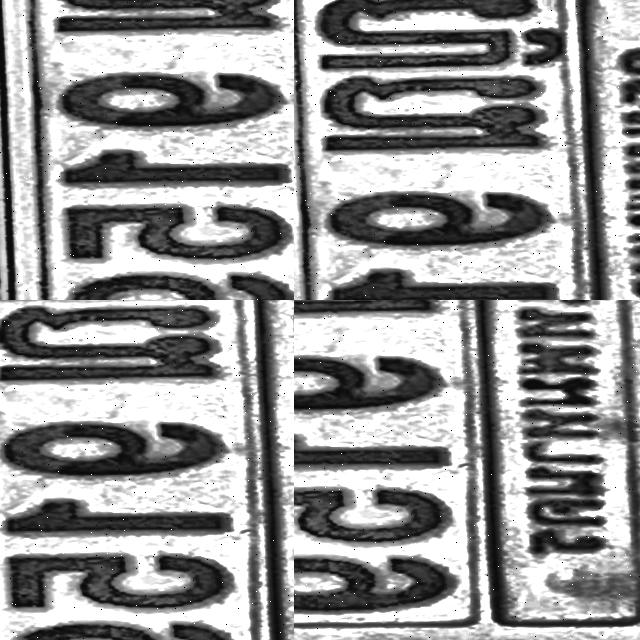license-plate: (294, 300, 640, 640), (294, 0, 379, 129)
